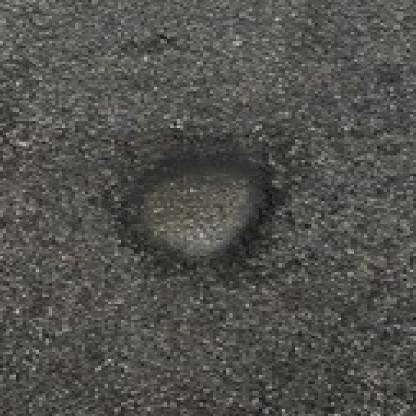pothole: (108, 140, 285, 261)
